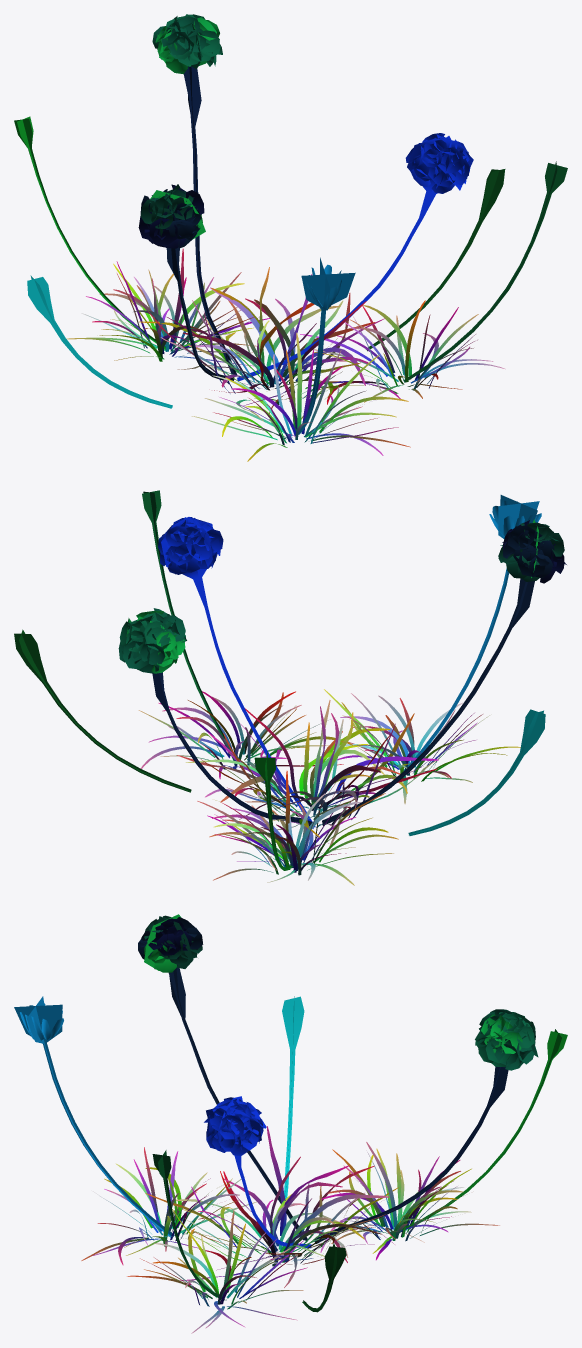
Rendered from Sea_Thrift_vkbgaihha_High_vkbgaihha_VarD_LOD0.fbx.
3 renders of one model, top to bottom at view 1: azimuth 30°, elevation 25°; view 2: azimuth 150°, elevation 25°; view 3: azimuth 270°, elevation 25°, orthographic. The views are drawn at different scales.
Parts seen in each view (by area): view 1: _wi0m_VarD_LOD0; view 2: _wi0m_VarD_LOD0; view 3: _wi0m_VarD_LOD0.
Part boxes in pixels (x1,y1,x2,y2): _wi0m_VarD_LOD0: [14, 14, 567, 461]; _wi0m_VarD_LOD0: [14, 490, 566, 885]; _wi0m_VarD_LOD0: [14, 914, 567, 1333].
Size of the model in its own units: 34.18 by 18.39 by 34.7.
